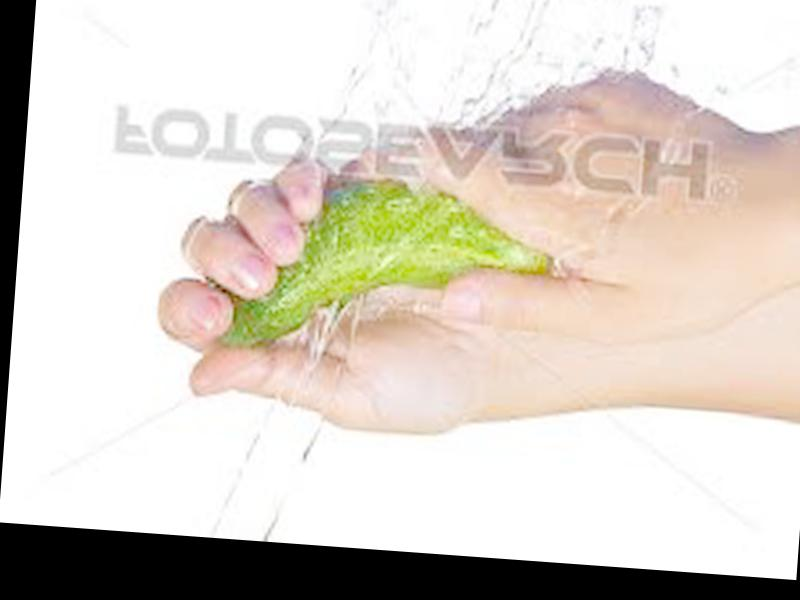Cucumber: (215, 162, 566, 371)
